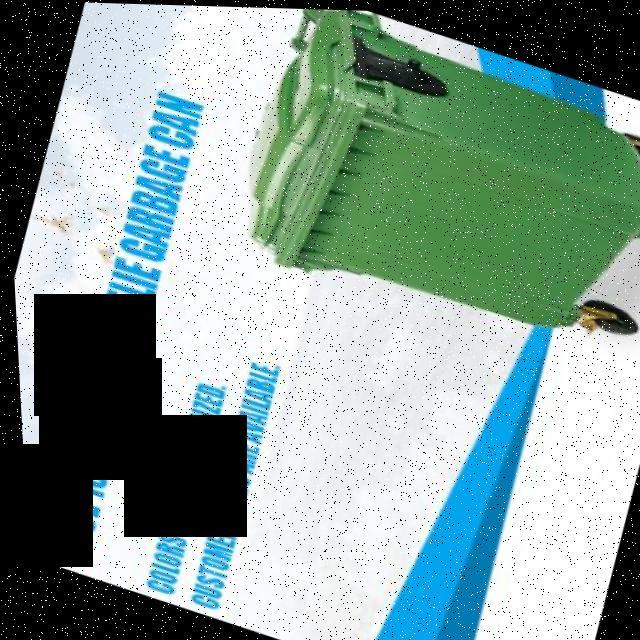bin: (200, 5, 640, 394)
